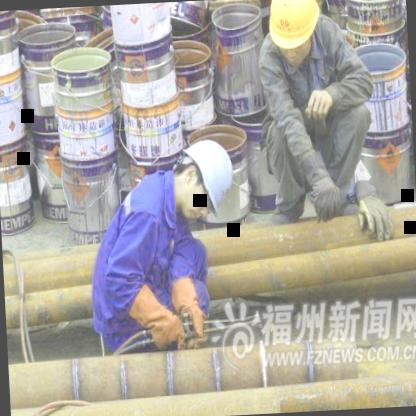helmet: (169, 134, 242, 218), (266, 0, 323, 59), (212, 0, 258, 35)
